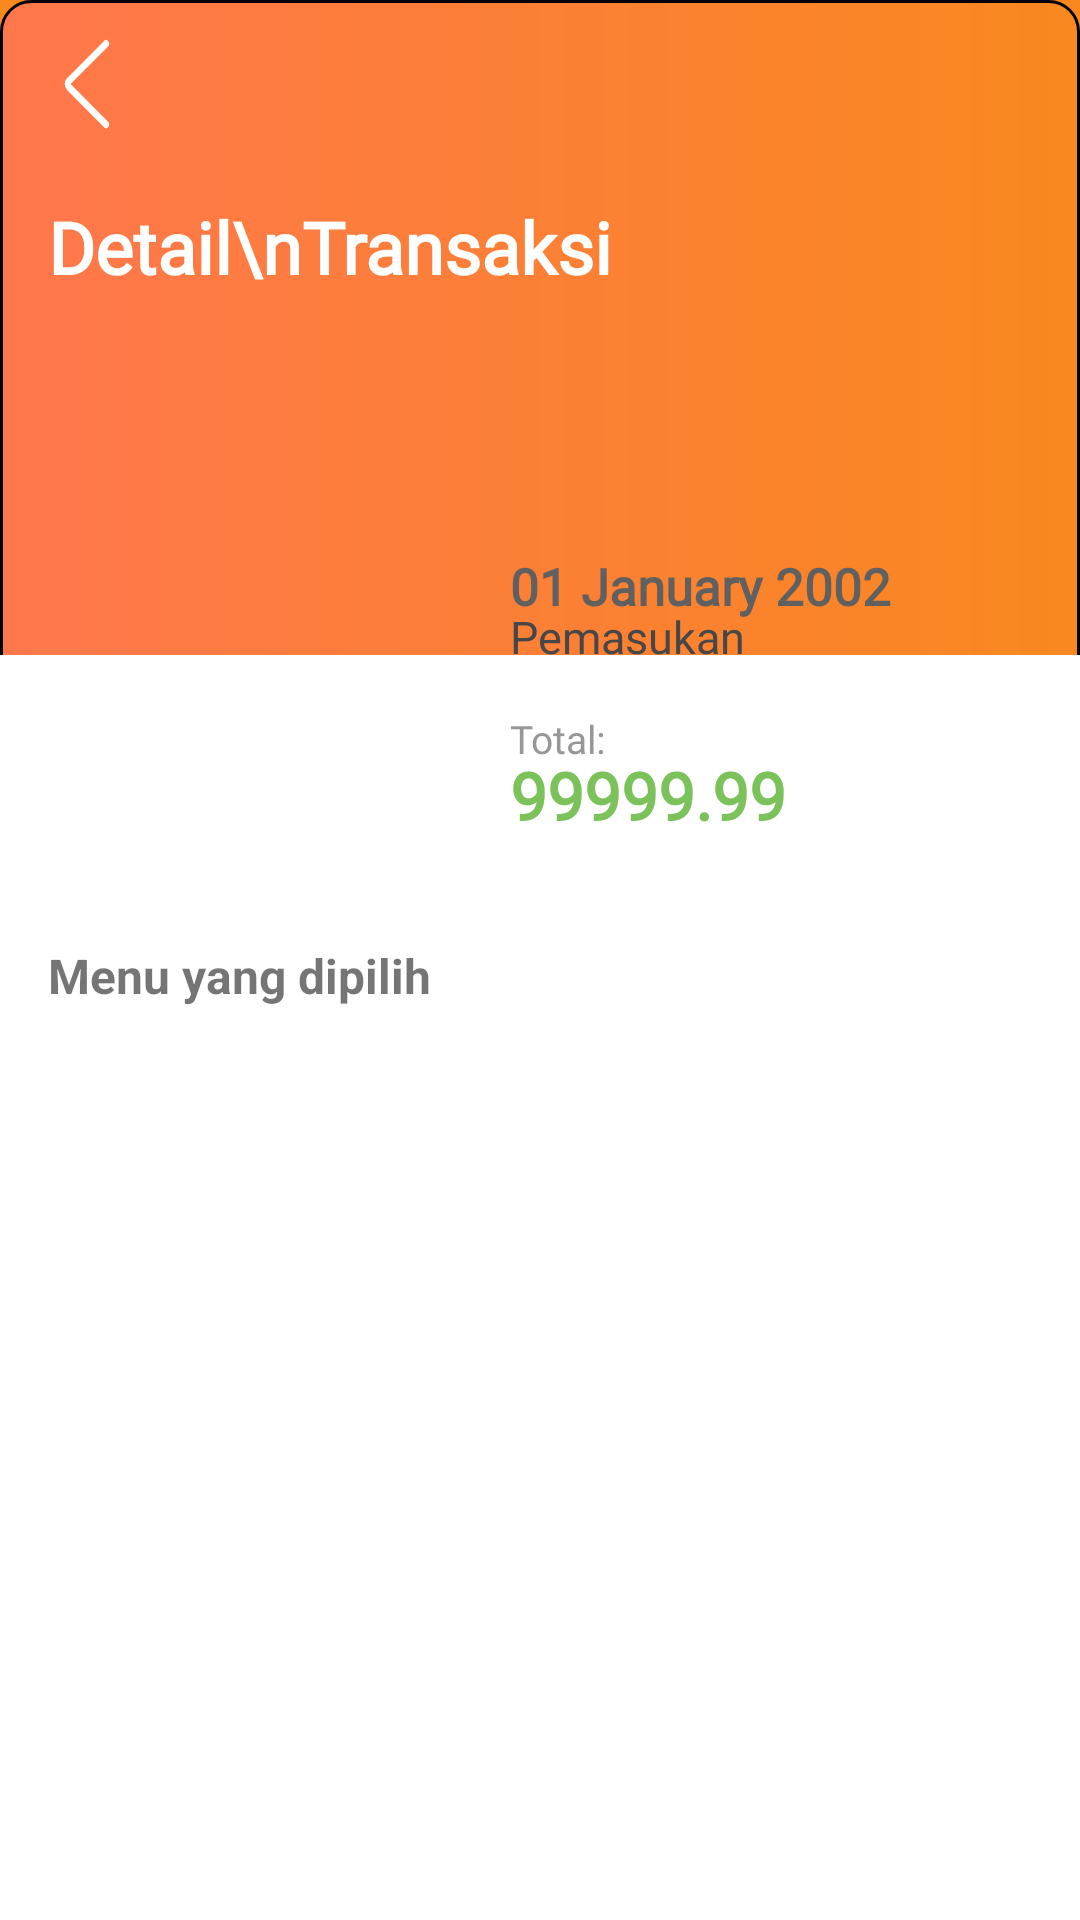

Where icons sit on this 1080 × 1920 app screen, as (left=x1, top=y1, right=x2, bottom=y2):
arrow left: (left=64, top=40, right=109, bottom=129)
